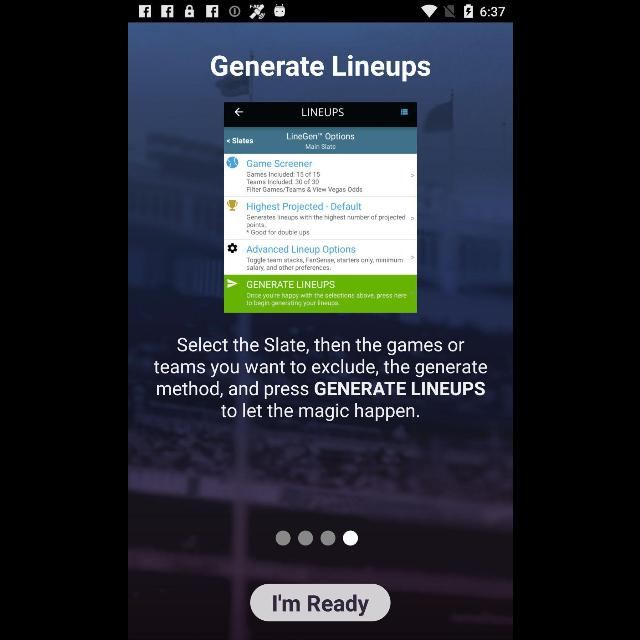backgroundimage: (128, 22, 512, 640)
image: (224, 103, 416, 313)
pageindicator: (274, 530, 358, 546)
text: (153, 336, 487, 422), (210, 56, 430, 82)
textbutton: (250, 584, 390, 622)
uppertaskbar: (128, 1, 512, 23)
